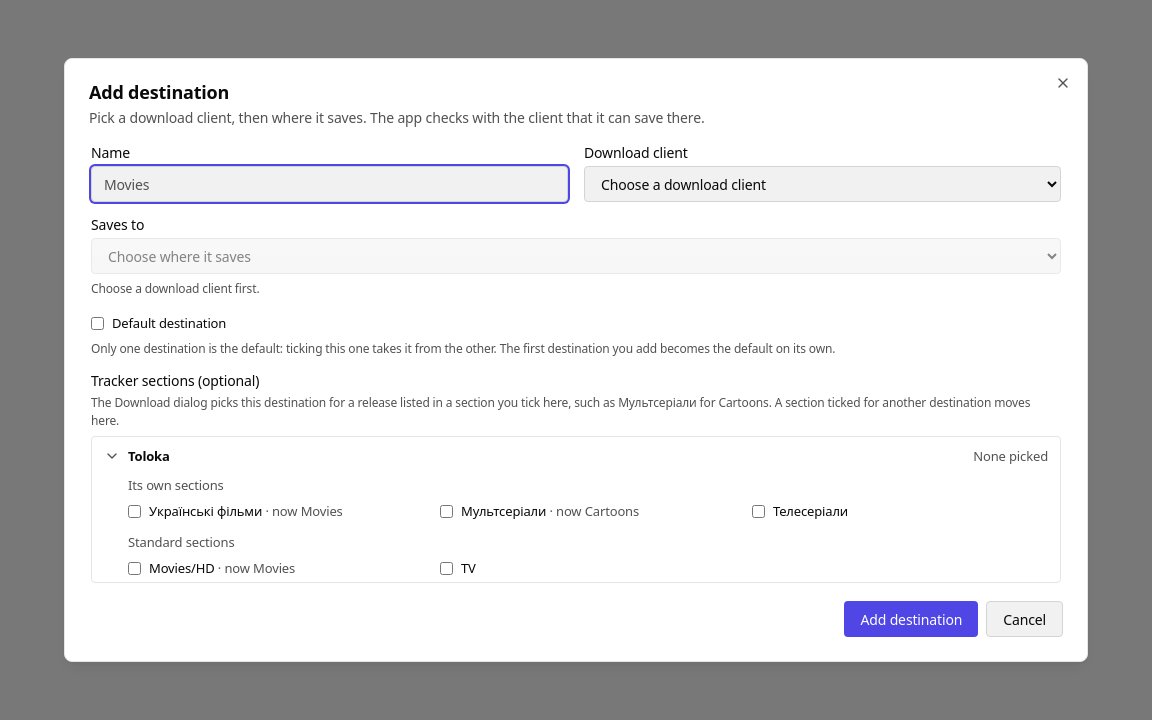
Test case: DestinationDialog folders › says under the name that a folder client shows it as the torrent's label, and a category client says nothing of it
Select "Local Transmission" in the dropdown labelled "Download client" at coordinates (822, 184), box 584,166 -> 1061,202
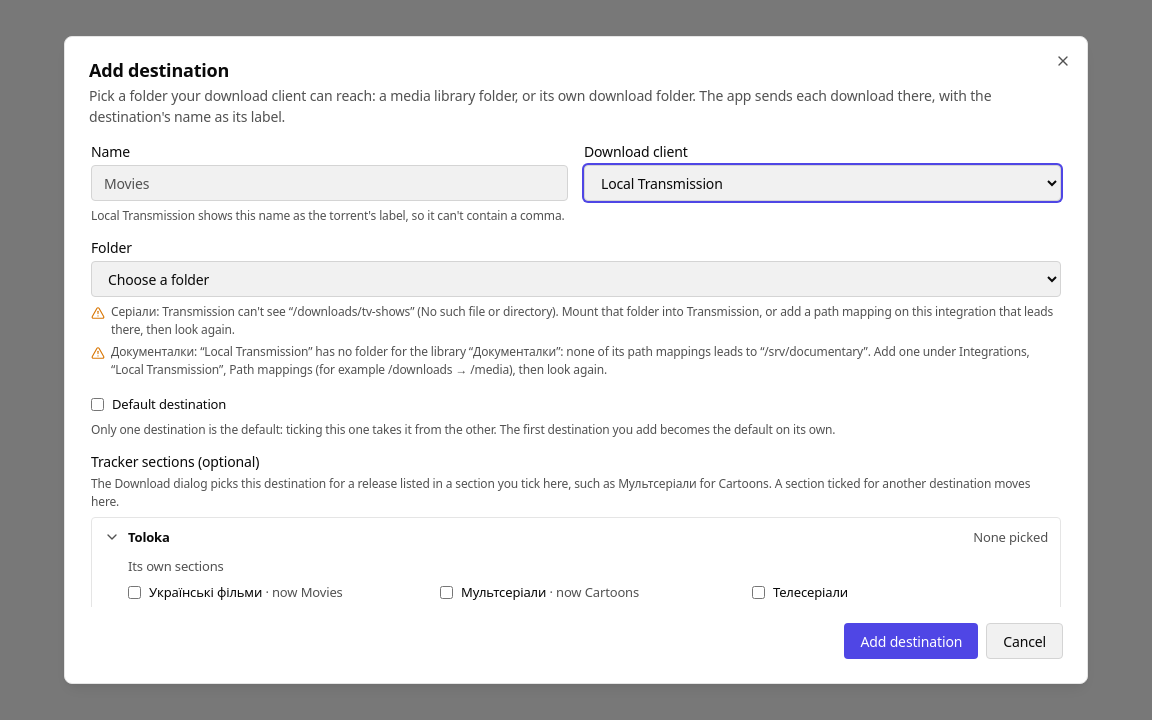
Expected: the dropdown labelled "Folder" is enabled, 91,261 -> 1061,297
Select "Local qBittorrent" in the dropdown labelled "Download client" at coordinates (822, 183), box 584,165 -> 1061,201
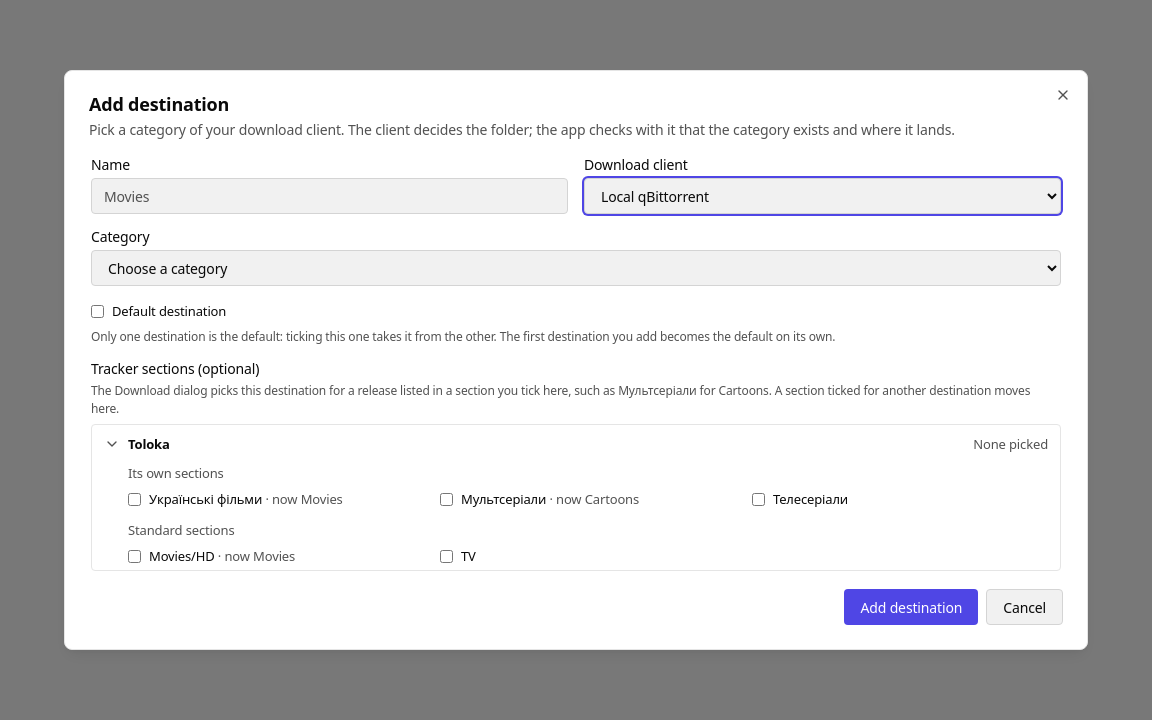
Expected: the text "shows this name as the torrent's label" is gone
Expected: the dropdown labelled "Category" is shown, 91,250 -> 1061,286
